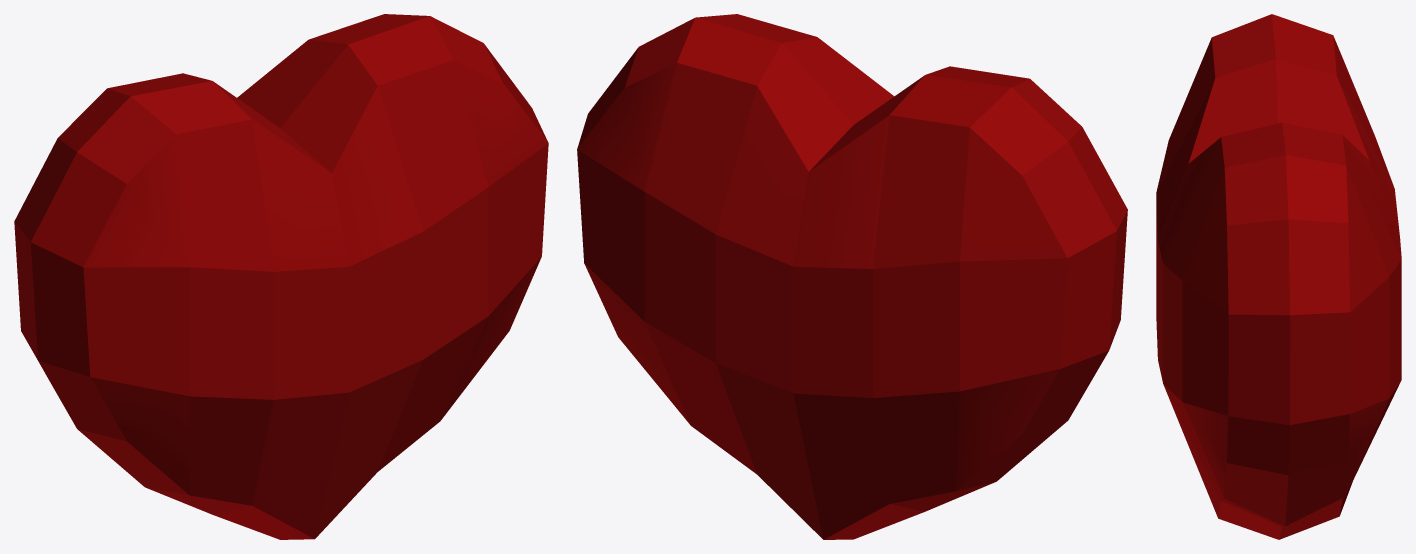
File: corazon_fbx_callejon.fbx
3 renders of one model, left to right at view 1: azimuth 30°, elevation 25°; view 2: azimuth 150°, elevation 25°; view 3: azimuth 270°, elevation 25°, orthographic. The views are drawn at different scales.
Visible parts, largest first — view 1: Mesh; view 2: Mesh; view 3: Mesh.
Part boxes in pixels (x1,y1,x2,y2): Mesh: (14, 14, 548, 539); Mesh: (577, 14, 1127, 539); Mesh: (1156, 14, 1401, 539).
Bounding box in the file's own units: 6.15 × 5.54 × 2.71.
